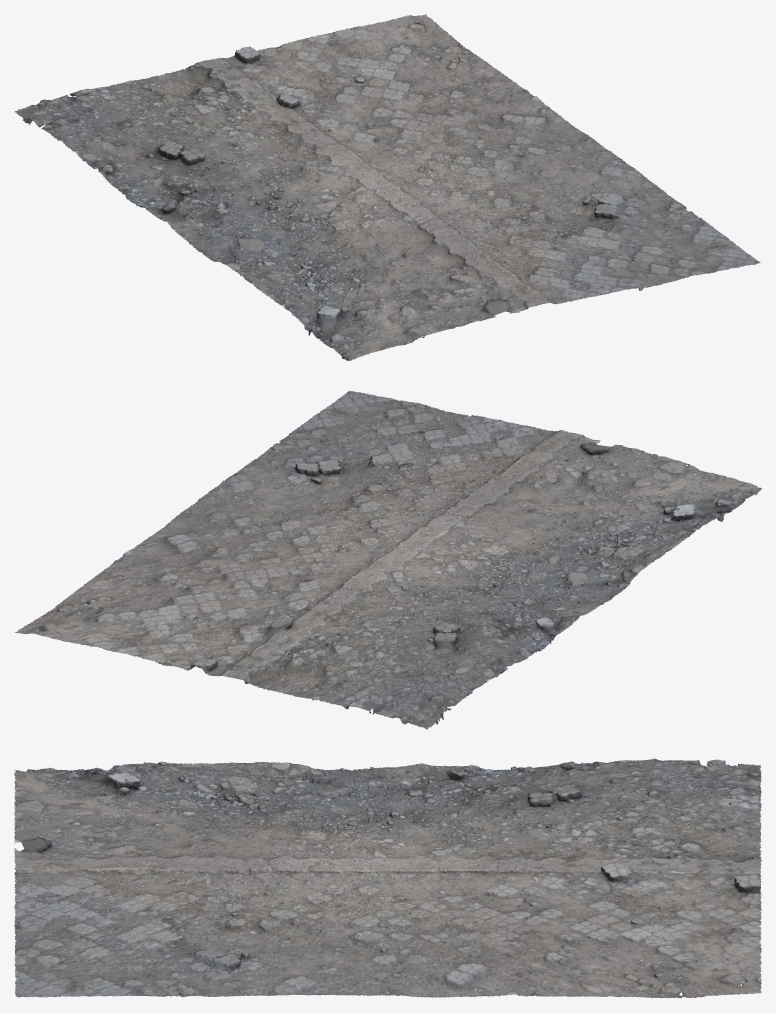
File: ground.glb
The picture shows the model from 3 angles, top to bottom: view 1: azimuth 30°, elevation 25°; view 2: azimuth 150°, elevation 25°; view 3: azimuth 270°, elevation 25°; orthographic projection. The views are drawn at different scales.
Parts seen in each view (by area): view 1: Distroyed_Ground_Material002_0; view 2: Distroyed_Ground_Material002_0; view 3: Distroyed_Ground_Material002_0.
Boxes of the visible parts, left/top/right/bottom form: Distroyed_Ground_Material002_0: left=14, top=14, right=760, bottom=361; Distroyed_Ground_Material002_0: left=15, top=390, right=761, bottom=729; Distroyed_Ground_Material002_0: left=14, top=758, right=761, bottom=998.
Size of the model in its own units: 62.67 by 3.48 by 88.18.
1 material, 1 textured.
